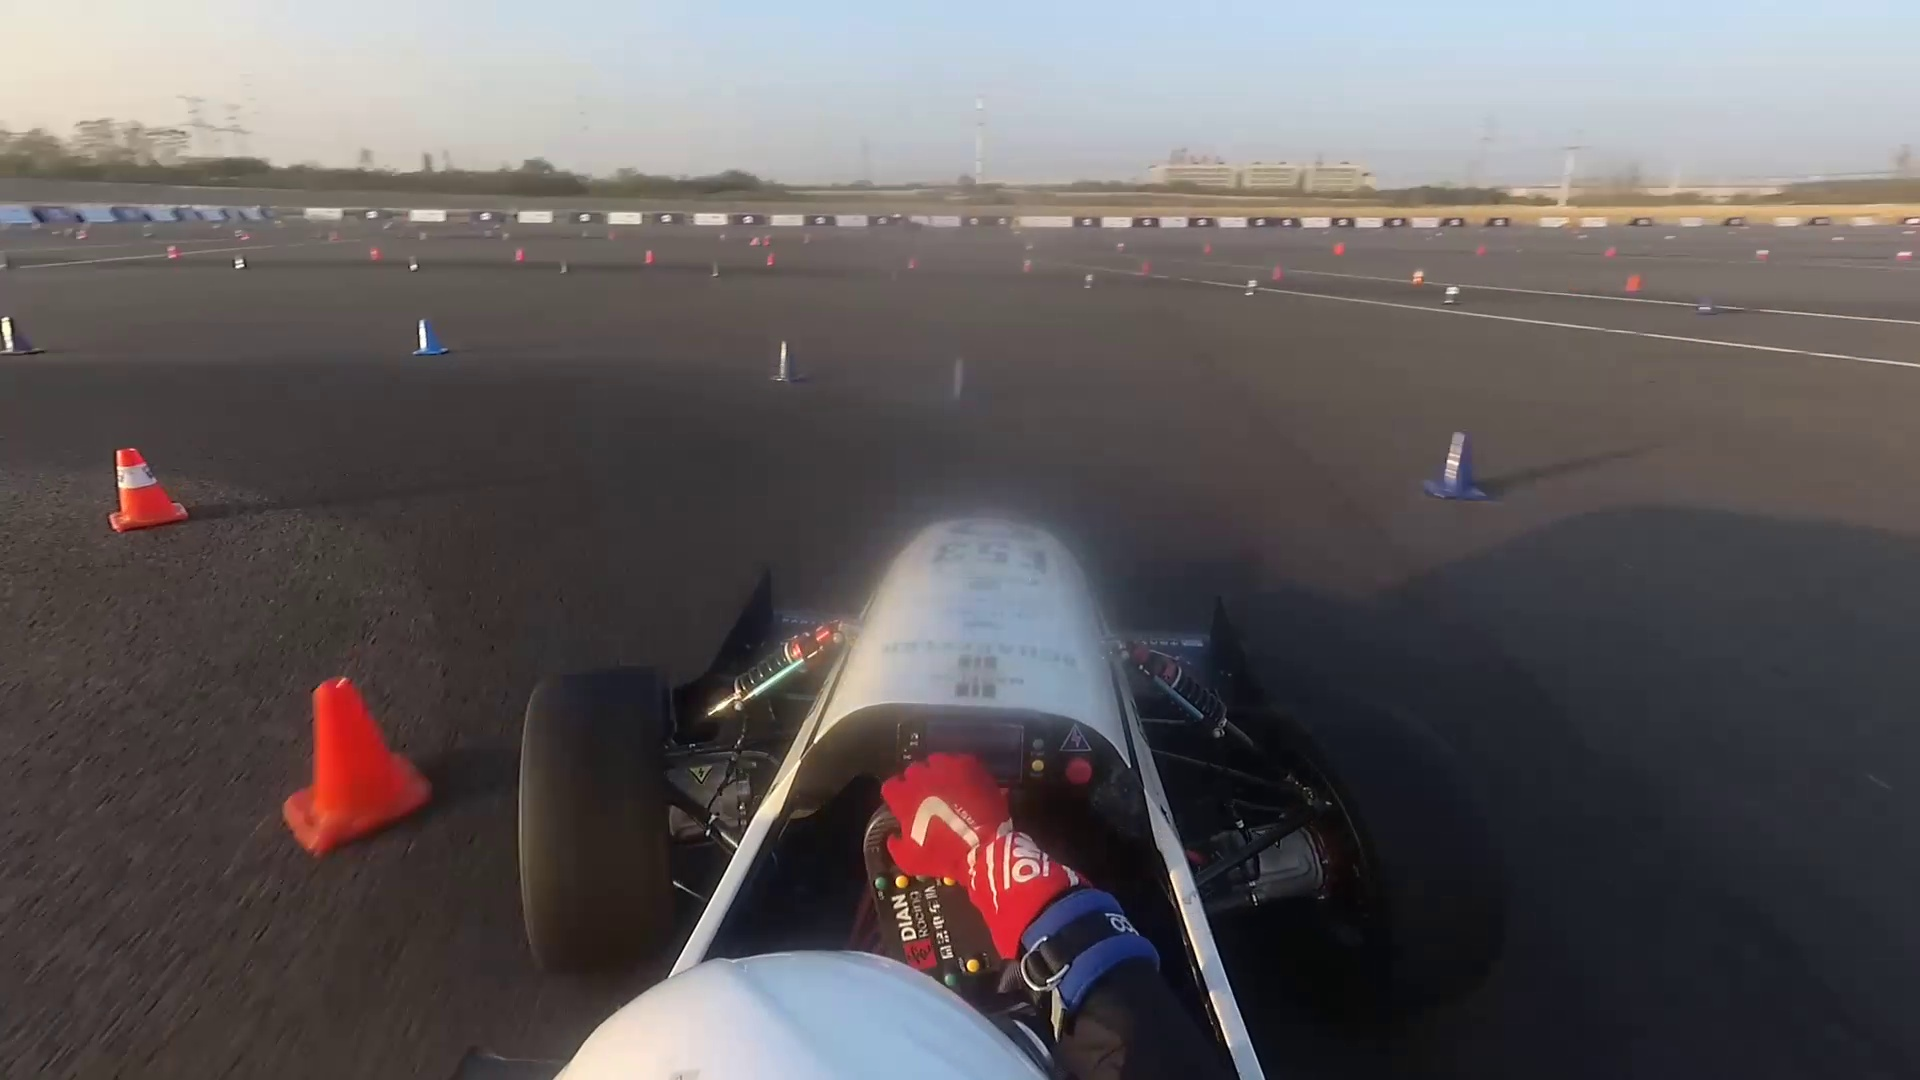blue_cone: (1427, 433, 1480, 498), (945, 356, 975, 404), (3, 314, 32, 361), (767, 345, 796, 390), (414, 320, 438, 356), (1242, 274, 1259, 303), (1443, 285, 1465, 305), (1079, 272, 1097, 291), (1701, 295, 1716, 316), (232, 251, 247, 270), (407, 257, 421, 276), (559, 257, 568, 280)
red_cone: (276, 684, 438, 855), (108, 458, 178, 526), (1625, 274, 1640, 294), (764, 252, 775, 272), (165, 247, 179, 261), (644, 252, 655, 266), (1414, 270, 1423, 287), (371, 247, 378, 265), (516, 251, 526, 261)
